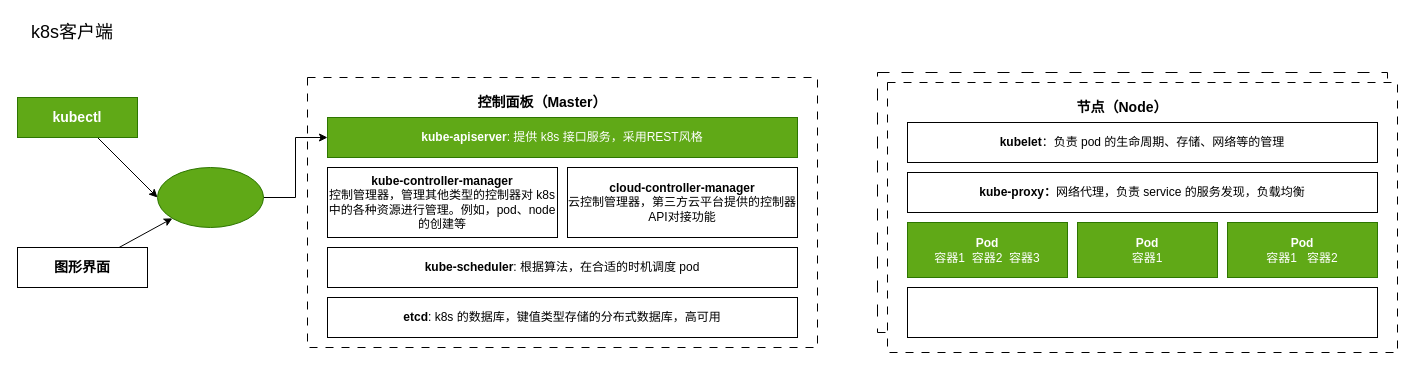
The diagram is 1415 pixels wide and 370 high, and some of its shapes have lost their labels. The shapes that lost their labels are listed below. From the top down, each one's centre as x and y in pixels, then its label:
the point at 210,197: API
the point at 1142,312: container-runtime： 容器运行时环境，docker、containerd、CRI-O
